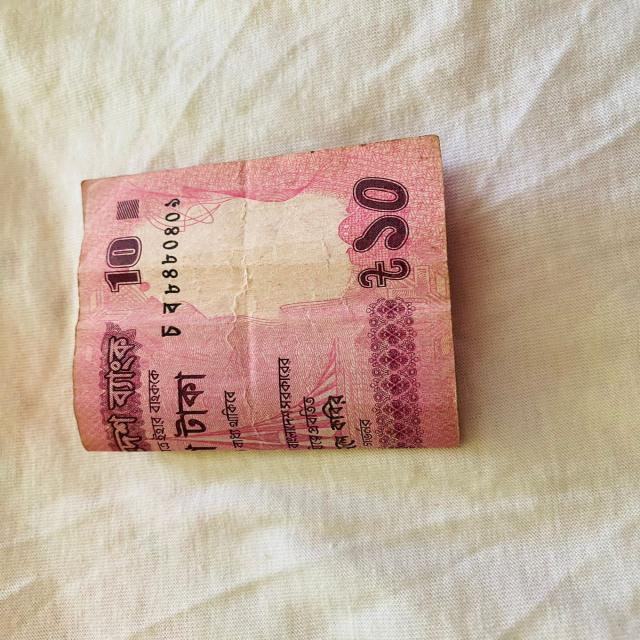Taka: (72, 137, 464, 449)
